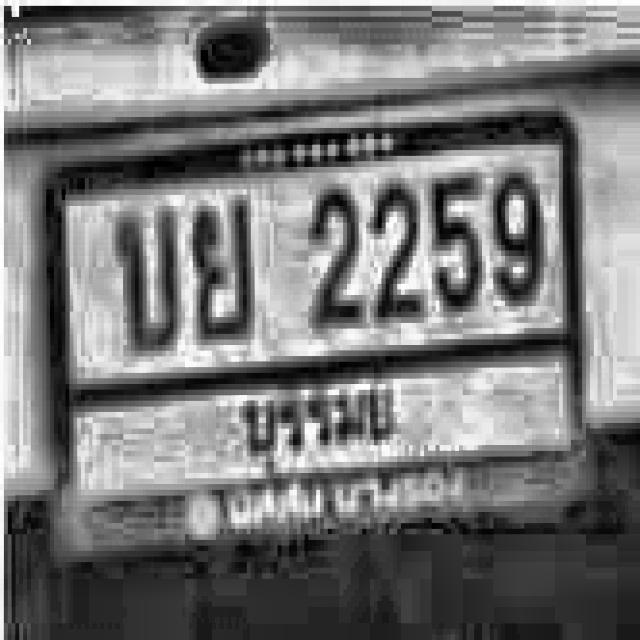license-plate: (26, 74, 596, 586)
